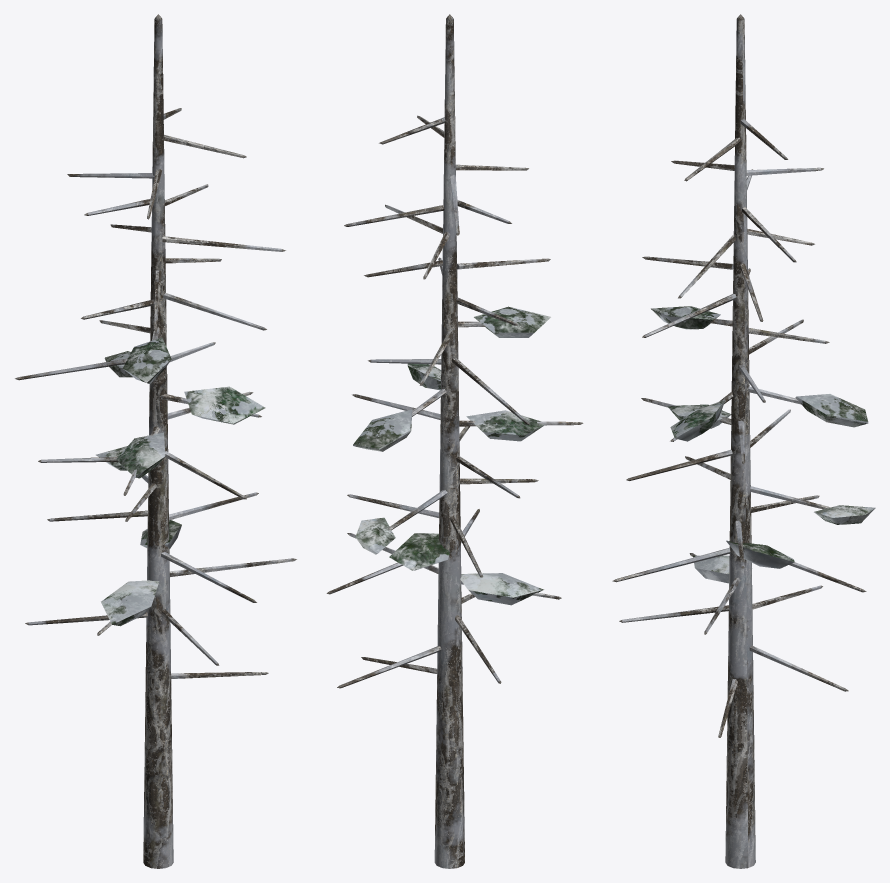
The model's file is Arctic_TreeThin_SM.fbx.
3 renders of one model, left to right at view 1: azimuth 30°, elevation 25°; view 2: azimuth 150°, elevation 25°; view 3: azimuth 270°, elevation 25°, orthographic.
Visible parts, largest first — view 1: Arctic_TreeThin_SM; view 2: Arctic_TreeThin_SM; view 3: Arctic_TreeThin_SM.
Part boxes in pixels (bbox=[...]): Arctic_TreeThin_SM: bbox=[15, 14, 296, 868]; Arctic_TreeThin_SM: bbox=[326, 14, 583, 868]; Arctic_TreeThin_SM: bbox=[612, 14, 875, 868].
Bounding box in the file's own units: 96.29 × 335 × 94.31.
